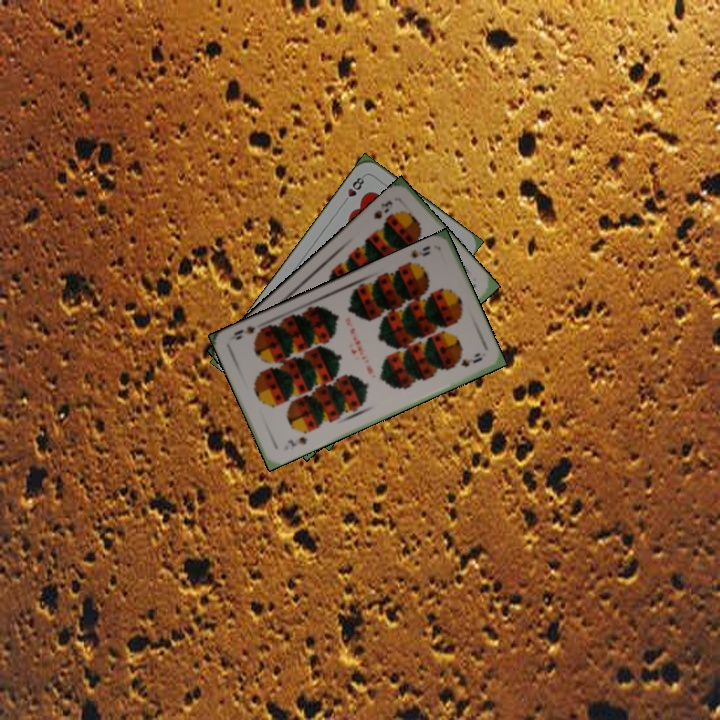H8: (339, 171, 367, 207)
S8: (370, 196, 395, 222)
S9: (400, 242, 433, 268), (283, 433, 310, 449)
